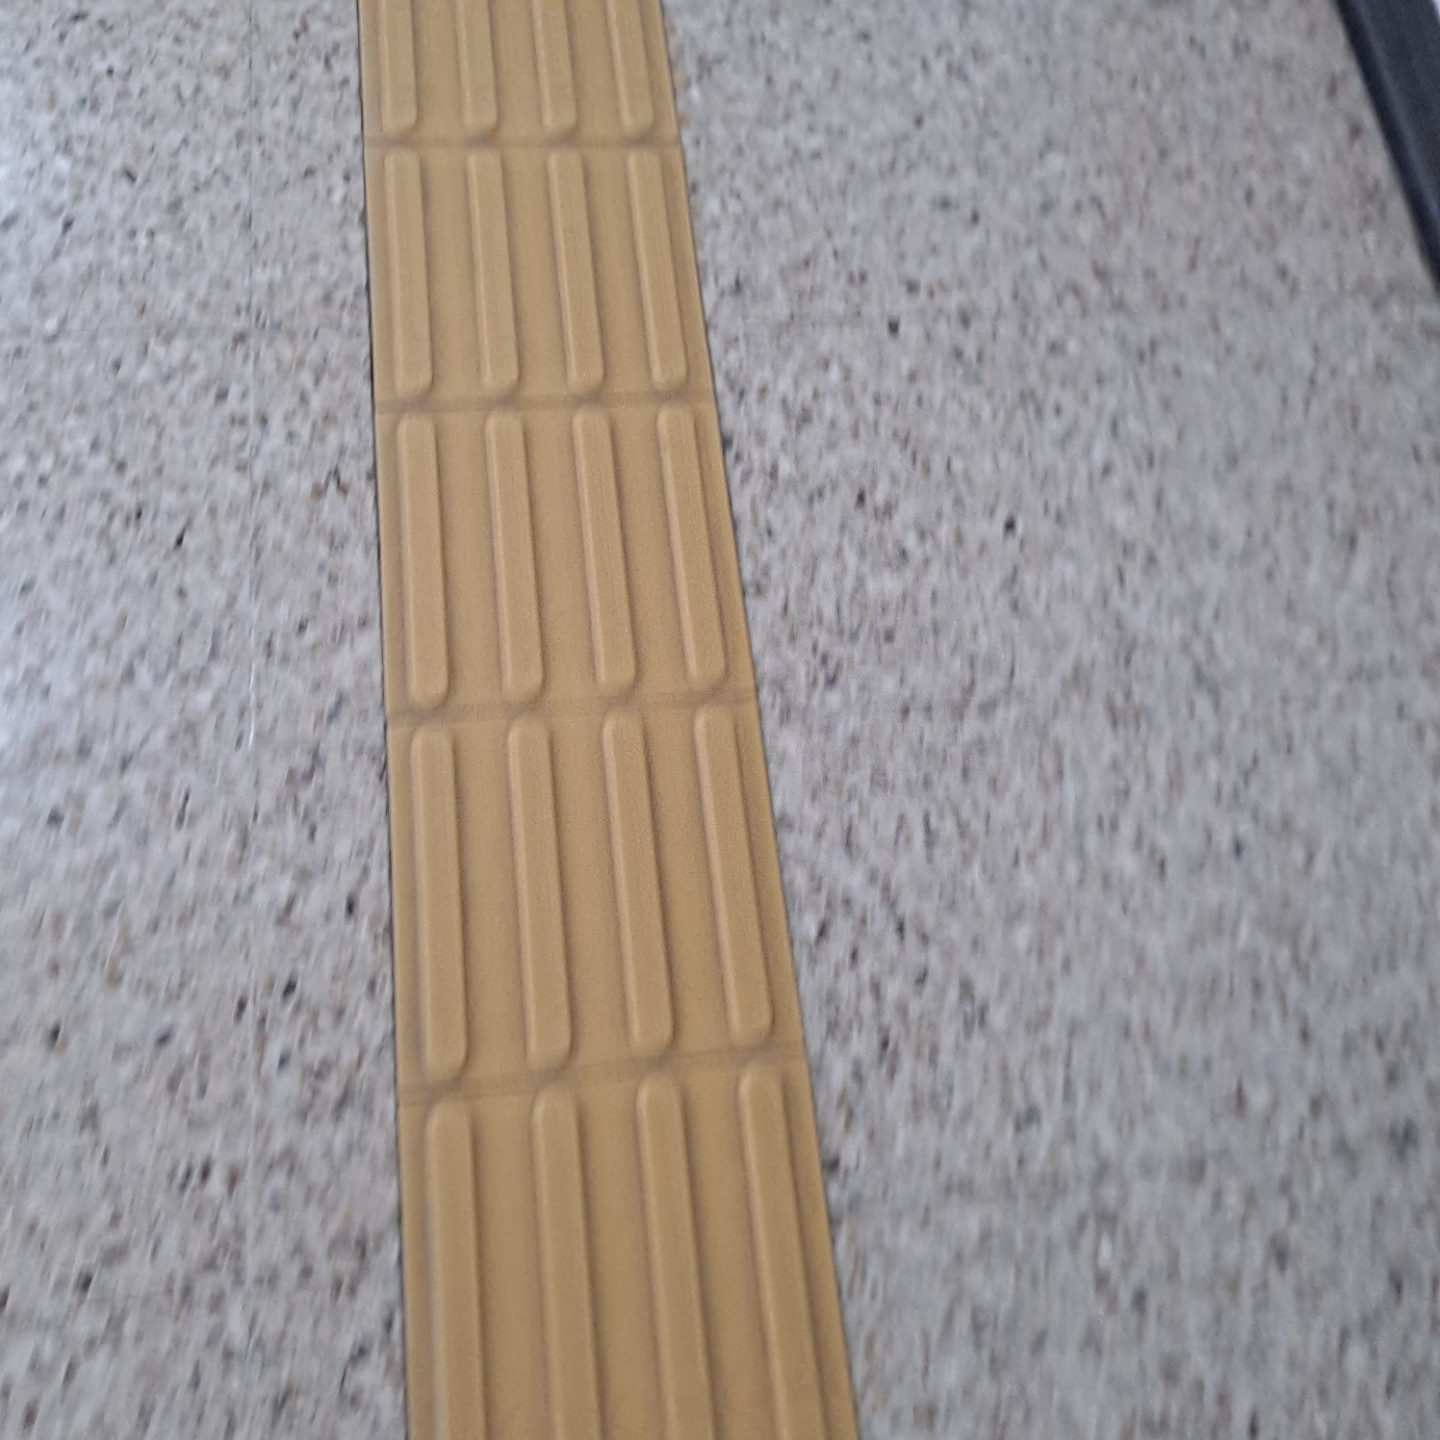guideBlock: (443, 1109, 949, 1440), (363, 709, 815, 1052), (381, 415, 756, 694), (371, 138, 695, 421), (369, 20, 684, 136)
